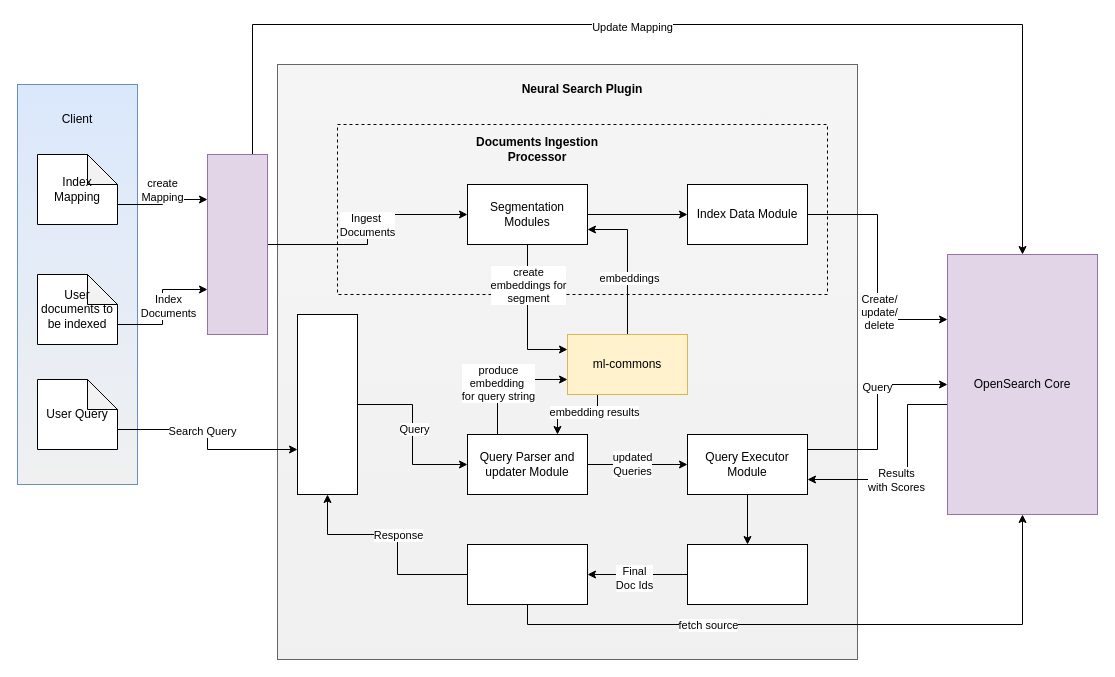
Some shapes in this 1115 by 677 pixel diagram are drawn without their labels. The centre of each missing label's shape, as x and y in pixels:
"Open Search Core Rest handlers" belongs at (x=237, y=244).
"Ranking/Scores Merge Module" belongs at (x=747, y=574).
"Response Producer" belongs at (x=527, y=574).
"Rest Handlers" belongs at (x=327, y=404).
